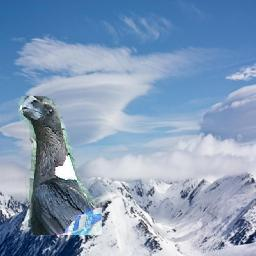Crow: (18, 97, 102, 236)
